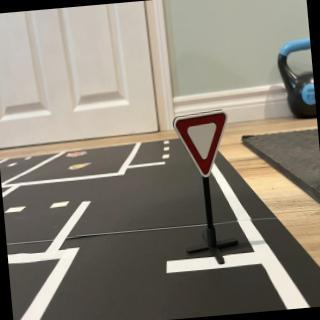sign_yield: (174, 111, 234, 180)
